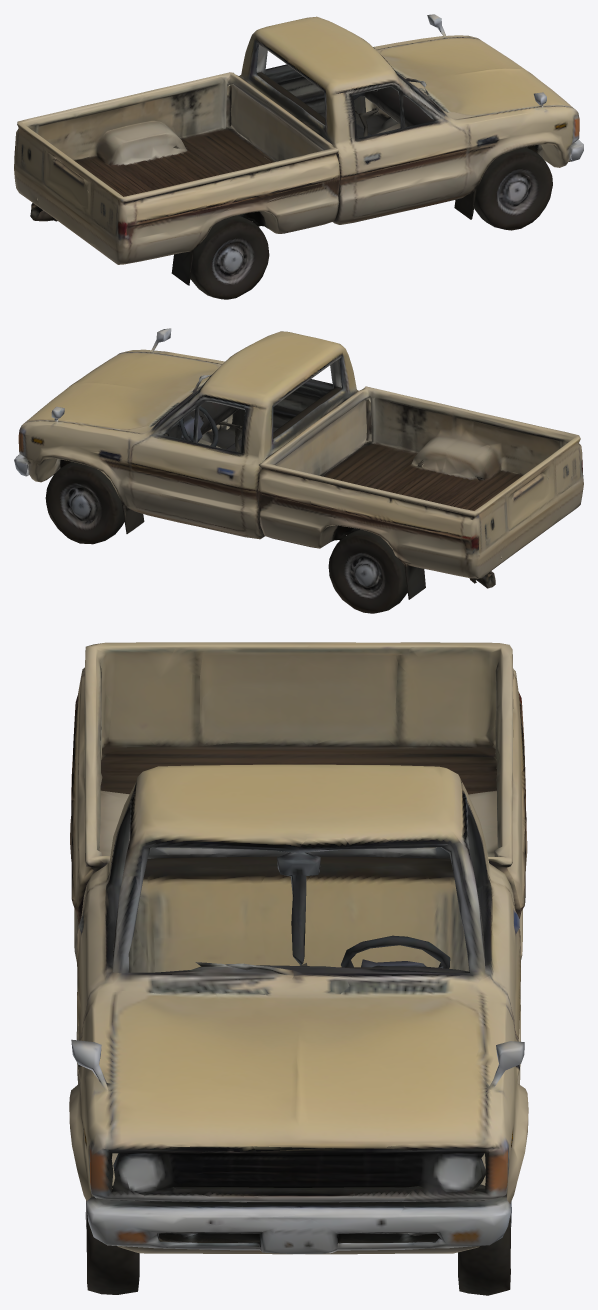
Rendered from model_pbr.glb.
The picture shows the model from 3 angles, top to bottom: view 1: azimuth 30°, elevation 25°; view 2: azimuth 150°, elevation 25°; view 3: azimuth 270°, elevation 25°; orthographic projection. The views are drawn at different scales.
Visible parts, largest first — view 1: tripo_node_ce857519-5dcd-4b2e-8f91-d0f84c83ffb9; view 2: tripo_node_ce857519-5dcd-4b2e-8f91-d0f84c83ffb9; view 3: tripo_node_ce857519-5dcd-4b2e-8f91-d0f84c83ffb9.
Part boxes in pixels (box(x1,y1,x2,y2)): tripo_node_ce857519-5dcd-4b2e-8f91-d0f84c83ffb9: box(14, 14, 583, 299); tripo_node_ce857519-5dcd-4b2e-8f91-d0f84c83ffb9: box(14, 328, 583, 613); tripo_node_ce857519-5dcd-4b2e-8f91-d0f84c83ffb9: box(69, 642, 528, 1295).
Bounding box in the file's own units: 0.9999 × 0.3652 × 0.4223.
Materials: 1 (1 with a texture image).
